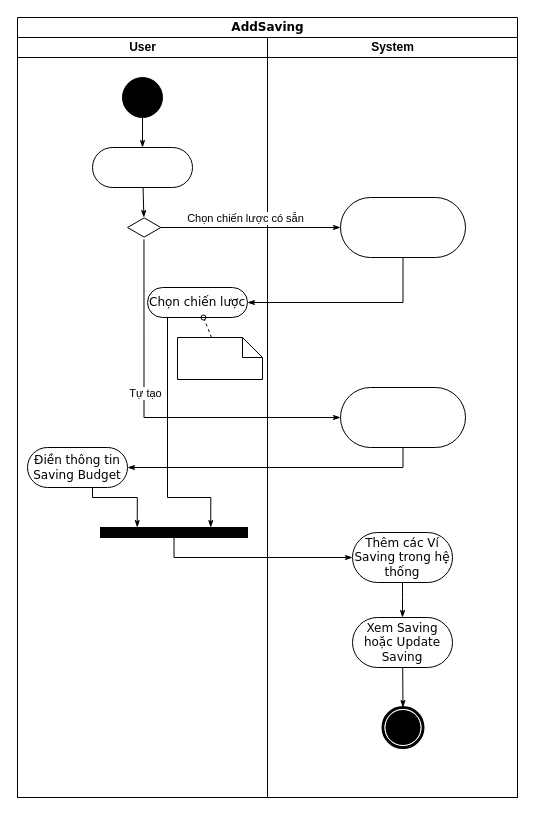
The diagram is 535 pixels wide and 815 high, and some of its shapes have lost their labels. Each missing label, with the centre of its shape:
"3 hũ/5 hũ" belongs at point (219, 358).
"Chọn tính năng Tiết kiệm" belongs at point (142, 167).
"Trả về màn hình chọn chiến lược Saving" belongs at point (403, 227).
"Trả về màn hình điền thông tin Saving Budget" belongs at point (403, 417).
